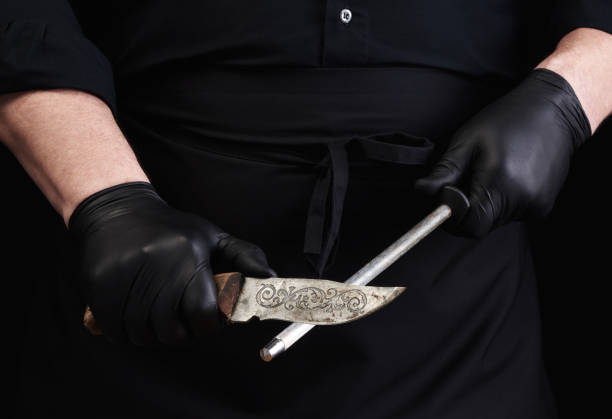knife: (80, 269, 408, 338)
